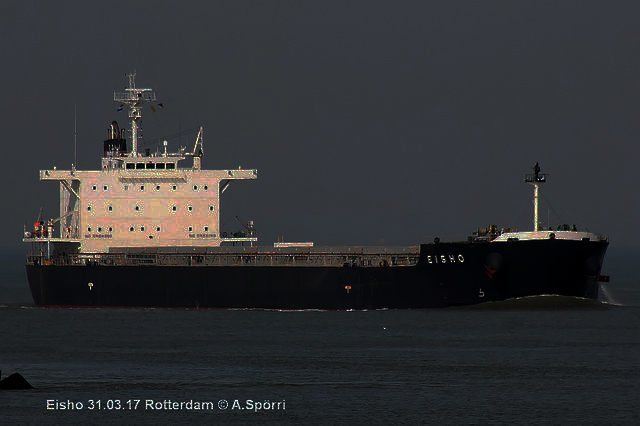bulk carrier: (22, 73, 609, 302)
